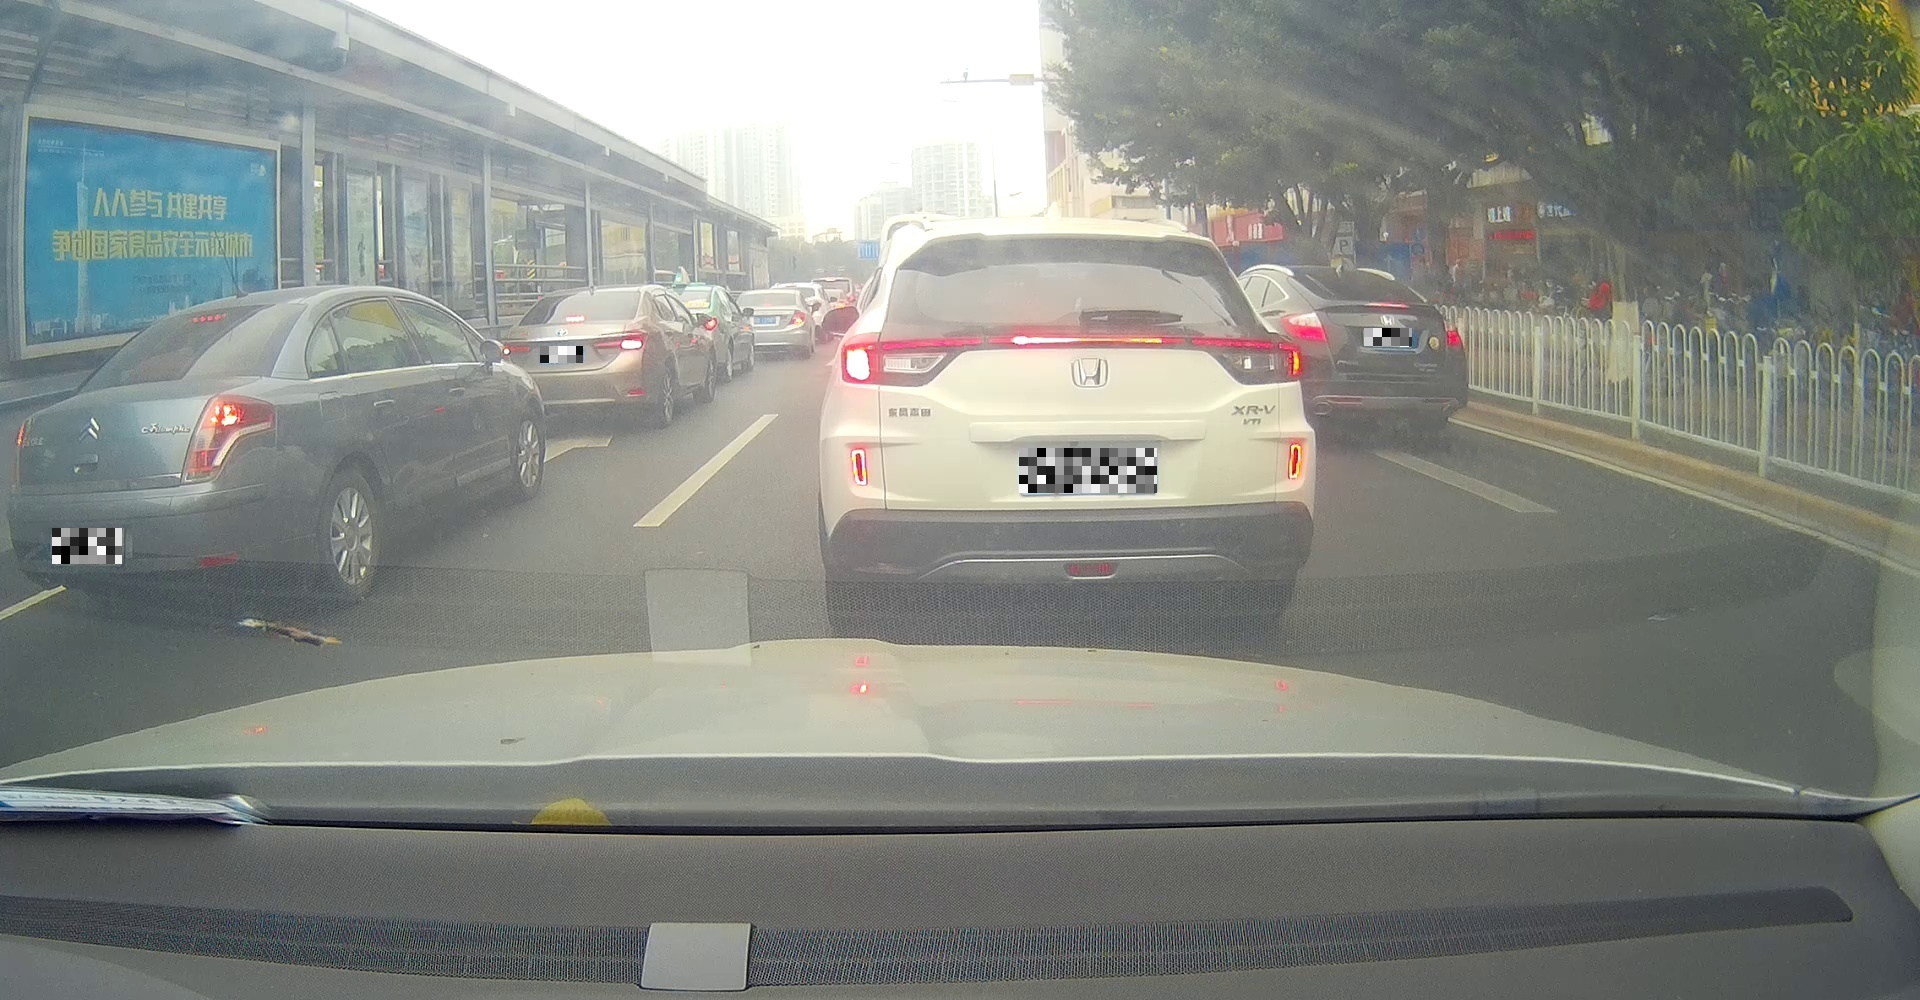L_light: (841, 340, 955, 387), (8, 415, 29, 486), (500, 343, 531, 359)
R_light: (179, 392, 276, 486), (1206, 338, 1303, 385), (593, 332, 646, 350)
T_light: (1012, 332, 1073, 344), (187, 308, 229, 324), (565, 316, 585, 324)
day-brake: (822, 221, 1316, 627), (5, 294, 316, 610), (498, 286, 653, 426)
plate_1: (52, 528, 122, 563)
plate_2: (540, 346, 583, 363)
plate_3: (1018, 448, 1157, 492)
plate_4: (1364, 327, 1412, 346)
